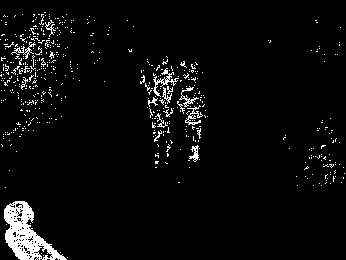person: (181, 80, 210, 168), (146, 82, 174, 173)
